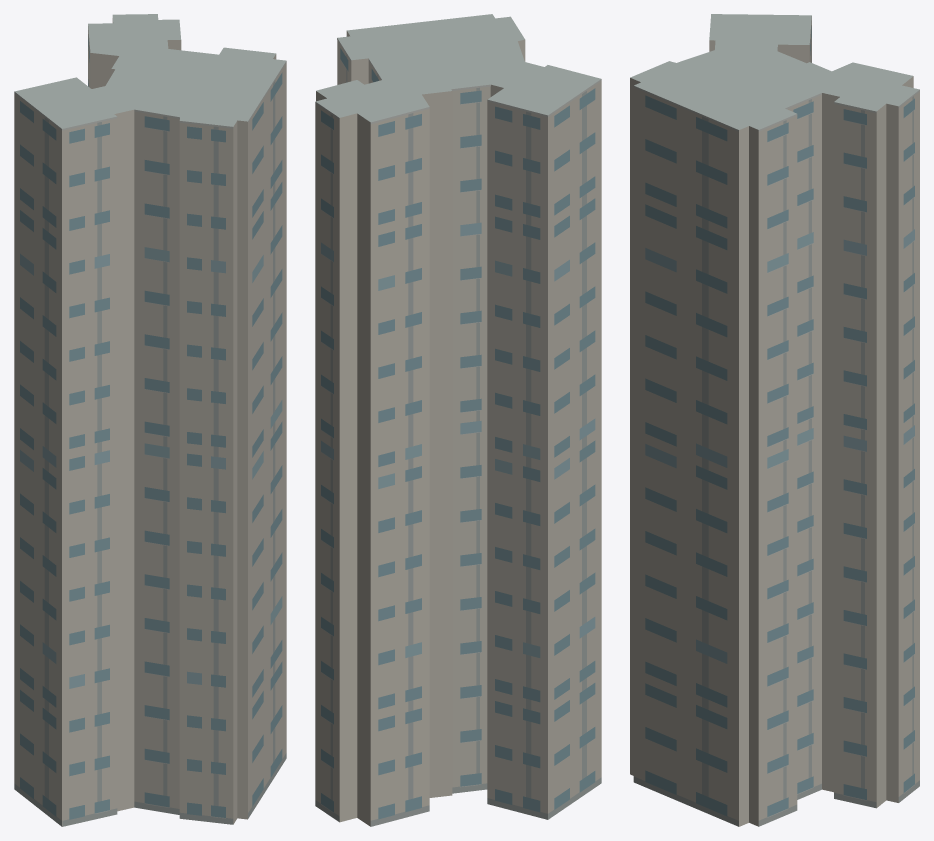
File: residential-33ebf0ba-024e-4e52-a431-29bafb2ae59c.glb
3 renders of one model, left to right at view 1: azimuth 30°, elevation 25°; view 2: azimuth 150°, elevation 25°; view 3: azimuth 270°, elevation 25°, orthographic.
Parts seen in each view (by area): view 1: residential-33ebf0ba-024e-4e52-a431-29bafb2ae59c.tmp; view 2: residential-33ebf0ba-024e-4e52-a431-29bafb2ae59c.tmp; view 3: residential-33ebf0ba-024e-4e52-a431-29bafb2ae59c.tmp.
Boxes of the visible parts, bbox=[...] form: residential-33ebf0ba-024e-4e52-a431-29bafb2ae59c.tmp: bbox=[14, 14, 286, 826]; residential-33ebf0ba-024e-4e52-a431-29bafb2ae59c.tmp: bbox=[315, 14, 601, 826]; residential-33ebf0ba-024e-4e52-a431-29bafb2ae59c.tmp: bbox=[630, 14, 919, 826].
Size of the model in its own units: 33.62 by 94 by 35.45.
